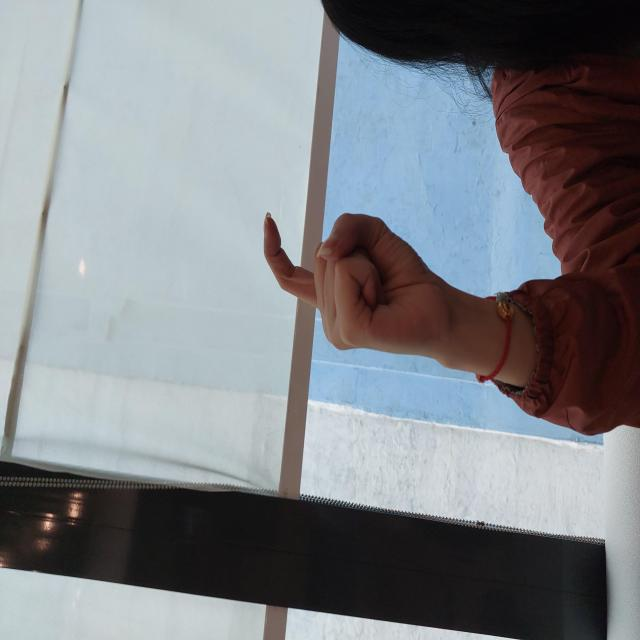X: (279, 261, 431, 454)
